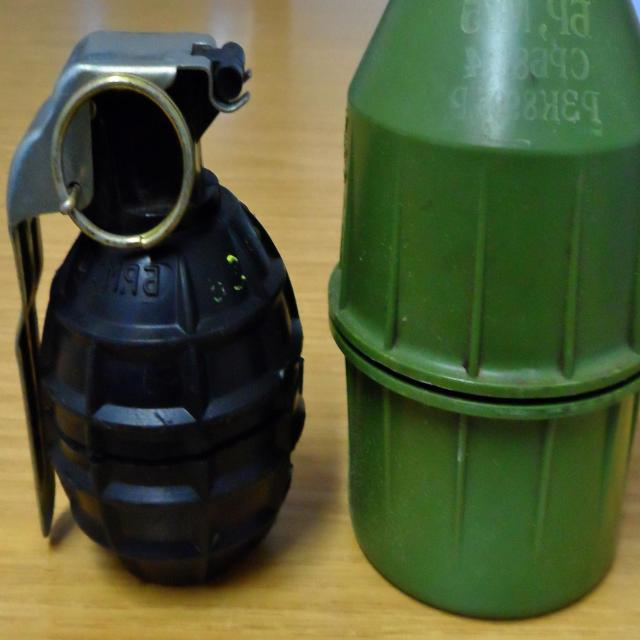grenade: (329, 1, 640, 621), (8, 30, 306, 587)
